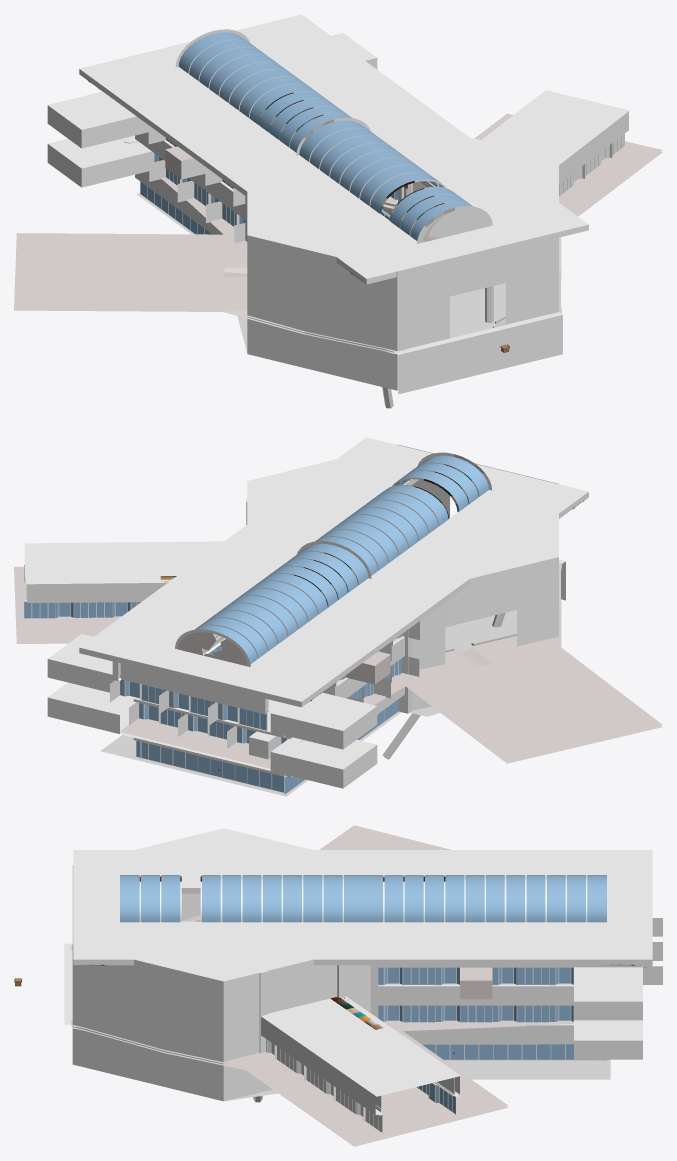
The model's file is Blockout.fbx.
The picture shows the model from 3 angles, top to bottom: view 1: azimuth 30°, elevation 25°; view 2: azimuth 150°, elevation 25°; view 3: azimuth 270°, elevation 25°; orthographic projection.
Visible parts, largest first — view 1: Cylinder, Cube.022, Cube.039, Cylinder.002, Plane.006, Cylinder.013, Cube.032, Plane.009, Cylinder.001, Cube.027, Cube.026, Cylinder.008 (+3 smaller); view 2: Cube.022, Cube.039, Cylinder, Cylinder.002, Cube.032, Plane.006, Cylinder.013, Plane.009, Cylinder.004, Cube.036, Cylinder.012, Cube.031 (+12 smaller); view 3: Cube.022, Cylinder, Cylinder.002, Cube.039, Plane.006, Cube.032, Cylinder.008, Plane.009, Cylinder.001, Cylinder.015, Cube.027, Cube.035 (+10 smaller).
Part boxes in pixels (box(x1,y1,x2,y2)): Cylinder: box(247, 124, 562, 394); Cube.022: box(79, 14, 588, 284); Cube.039: box(14, 113, 662, 353); Cylinder.002: box(178, 32, 472, 240); Plane.006: box(482, 90, 629, 164); Cylinder.013: box(175, 29, 492, 243); Cube.032: box(47, 33, 377, 148); Plane.009: box(137, 193, 505, 352); Cylinder.001: box(559, 111, 628, 183); Cube.027: box(148, 125, 245, 206); Cube.026: box(149, 153, 397, 242); Cylinder.008: box(135, 132, 245, 219); Cube.022: box(79, 437, 588, 707); Cube.039: box(14, 563, 662, 788); Cylinder: box(247, 444, 565, 710); Cylinder.002: box(195, 455, 488, 664); Cube.032: box(47, 634, 398, 749); Plane.006: box(24, 541, 223, 584); Cylinder.013: box(175, 452, 491, 666); Plane.009: box(100, 610, 516, 796); Cylinder.004: box(26, 580, 170, 602); Cube.036: box(136, 741, 284, 792); Cylinder.012: box(120, 663, 268, 714); Cube.031: box(110, 679, 239, 726); Cube.022: box(73, 850, 652, 965); Cylinder: box(64, 828, 370, 1101); Cylinder.002: box(120, 875, 606, 922); Cube.039: box(70, 825, 642, 1146); Plane.006: box(261, 997, 460, 1096); Cube.032: box(385, 967, 642, 1020); Cylinder.008: box(378, 984, 573, 1005); Plane.009: box(225, 1059, 610, 1101); Cylinder.001: box(261, 1014, 382, 1114); Cylinder.015: box(403, 1024, 573, 1044); Cube.027: box(378, 967, 573, 999); Cube.035: box(422, 1044, 608, 1060).
Bounding box in the file's own units: 12074 × 3722 × 10368.
